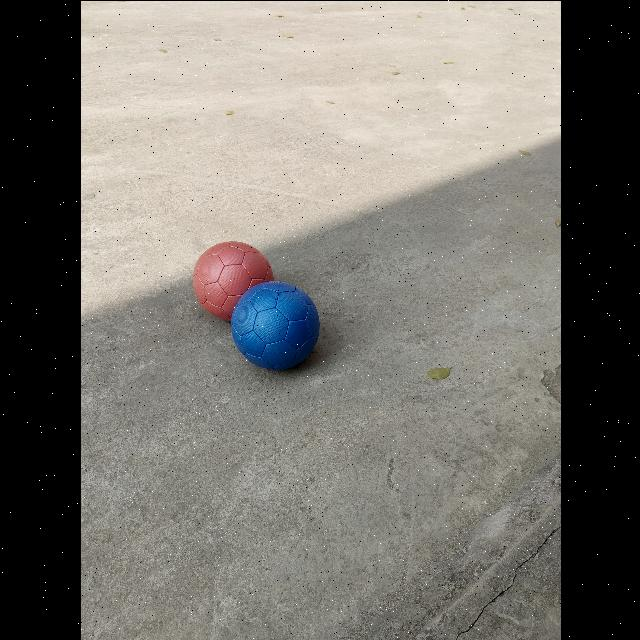B: (231, 280, 318, 369)
R: (192, 240, 272, 320)
